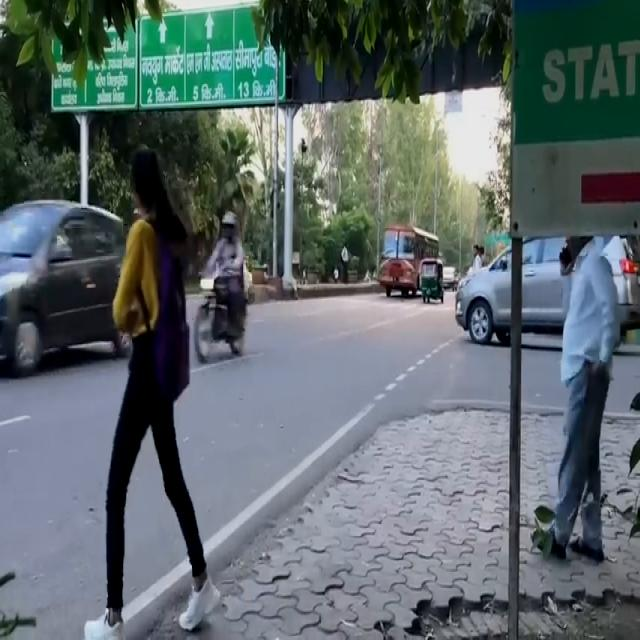BUS: (381, 223, 418, 297)
MOTORCYCLE: (196, 258, 245, 358)
SUV: (455, 232, 640, 355)
